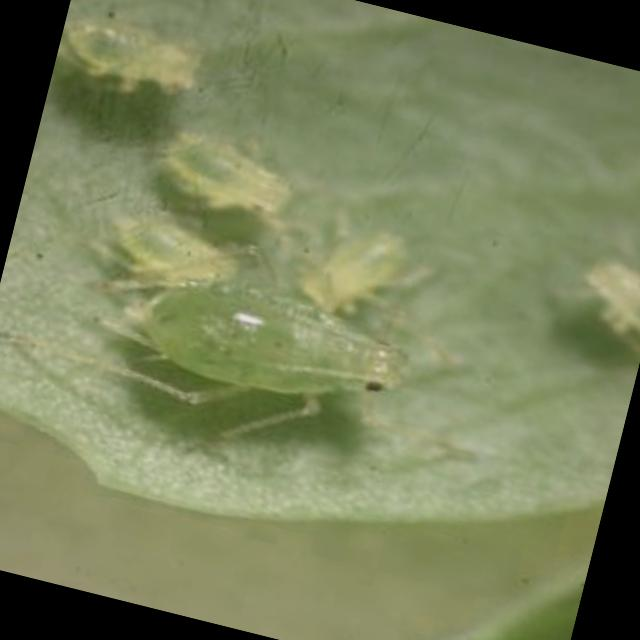Green peach aphid: (90, 225, 450, 502), (40, 0, 251, 162), (143, 92, 349, 249), (288, 179, 434, 347), (96, 180, 262, 316), (544, 206, 640, 384)
